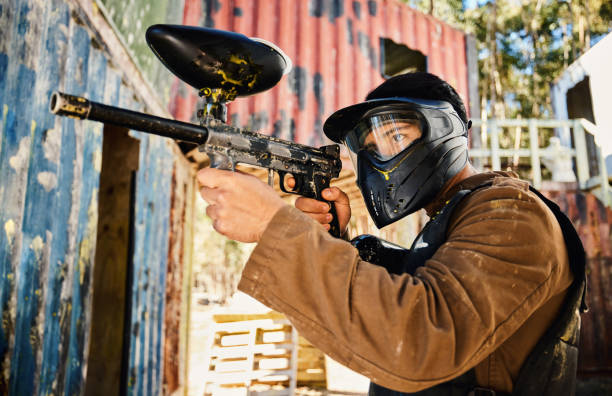gun: (46, 88, 343, 238)
